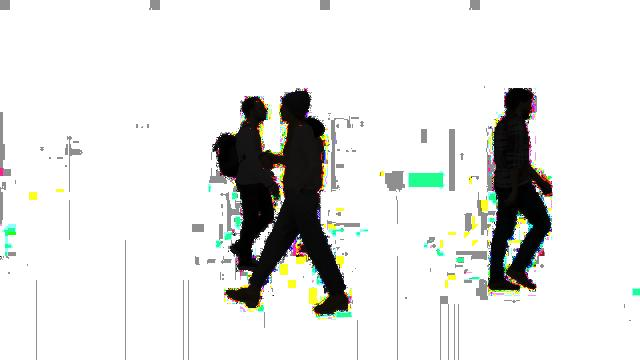berjalan: (224, 91, 350, 317), (484, 87, 562, 299), (217, 90, 281, 270)
